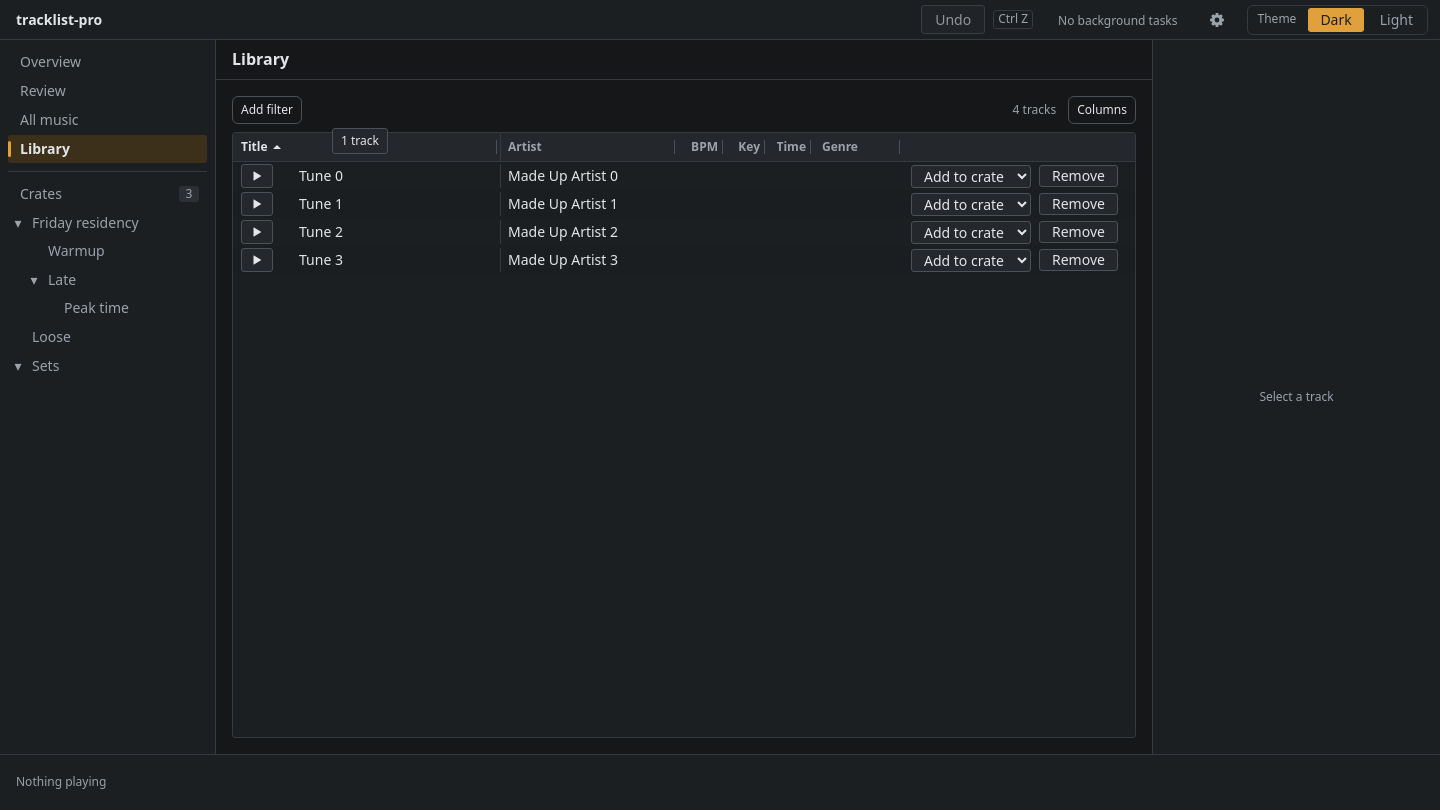
Scenario: dragging tracks onto a crate › a drop on a folder is refused and adds nothing
expect the table is shown: met, box left=233, top=133, right=1135, bottom=274
Press the mouse on the row "Tune 2 Made Up Artist 2 Remove" at (366, 232), box left=233, top=218, right=1135, bottom=246
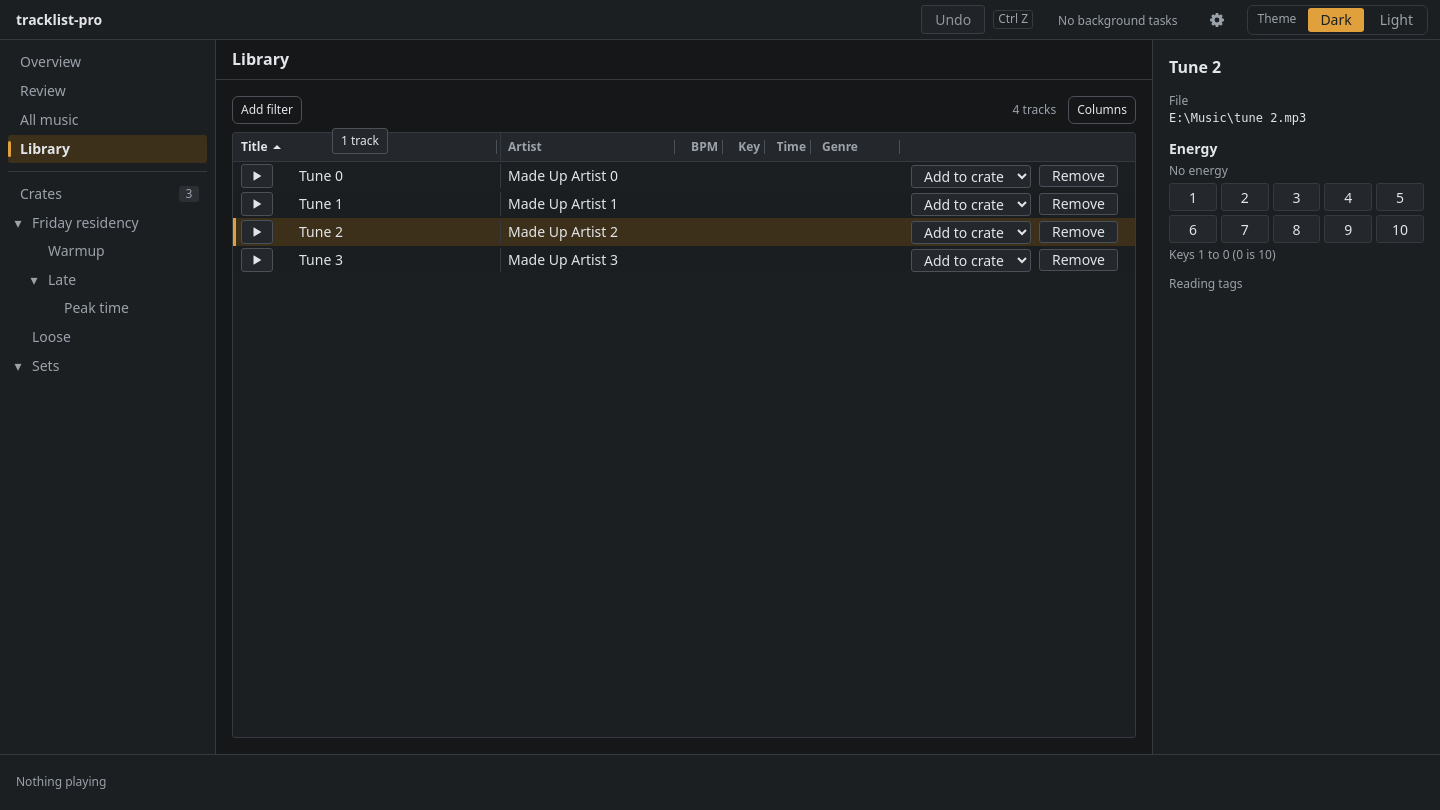
Hover over the element showing "▾ Friday residency" at (73, 223), box left=8, top=209, right=139, bottom=237
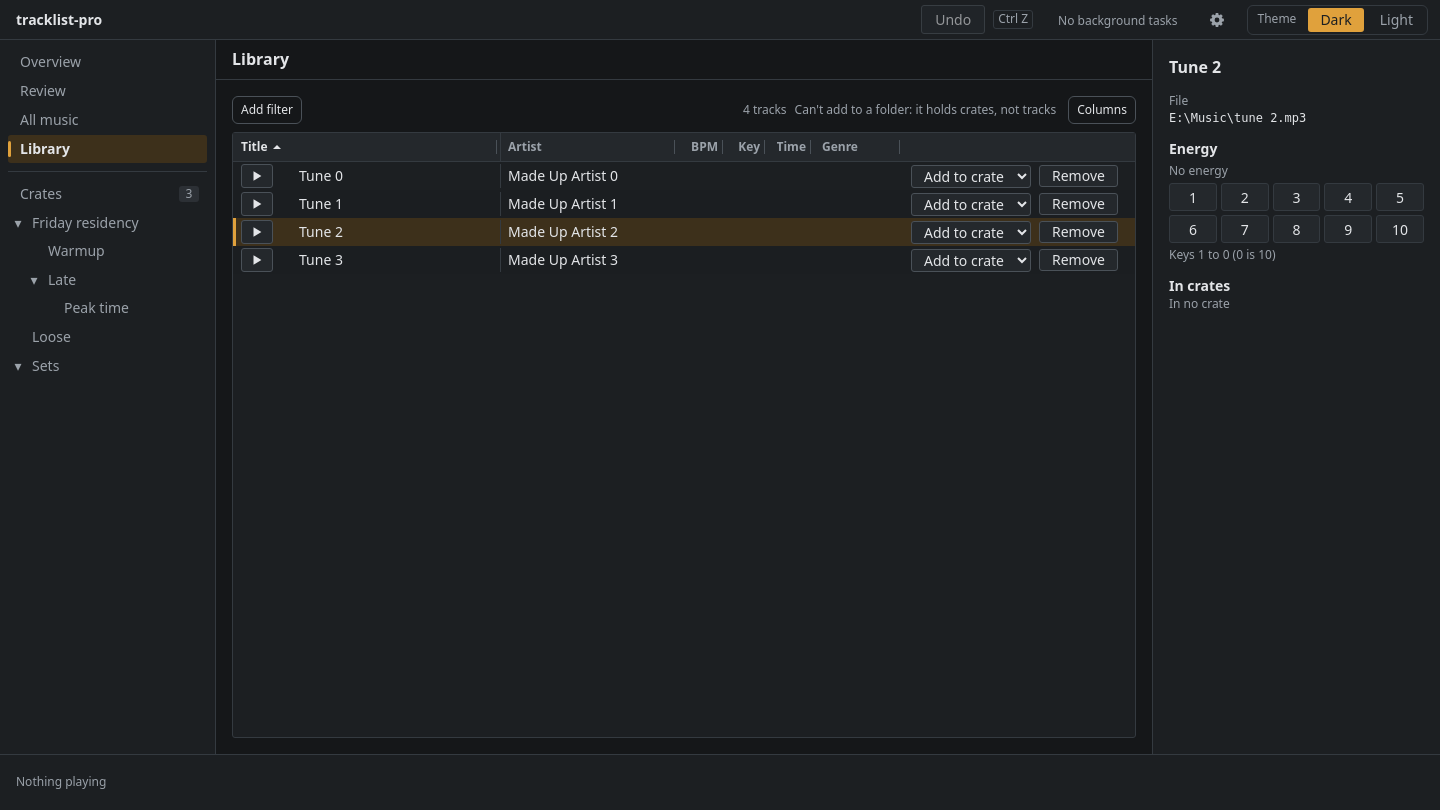
expect the text "Can't add to a folder: it holds crates, not tracks" is shown: met, box left=795, top=102, right=1056, bottom=118
